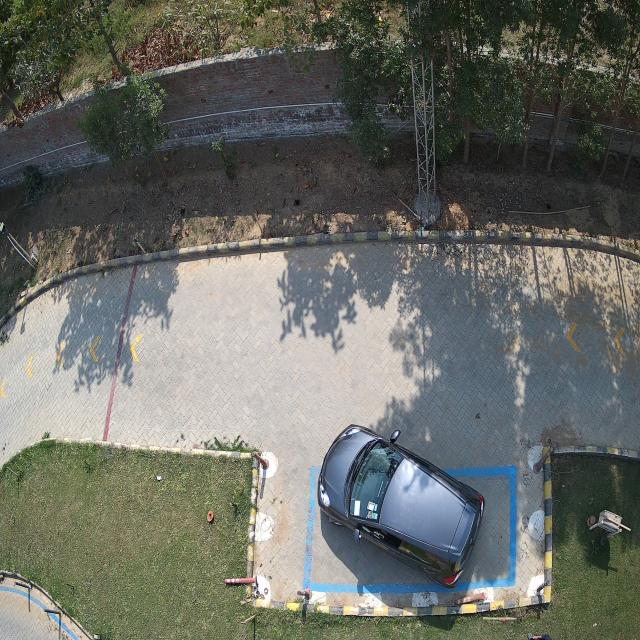car: (318, 423, 485, 589)
